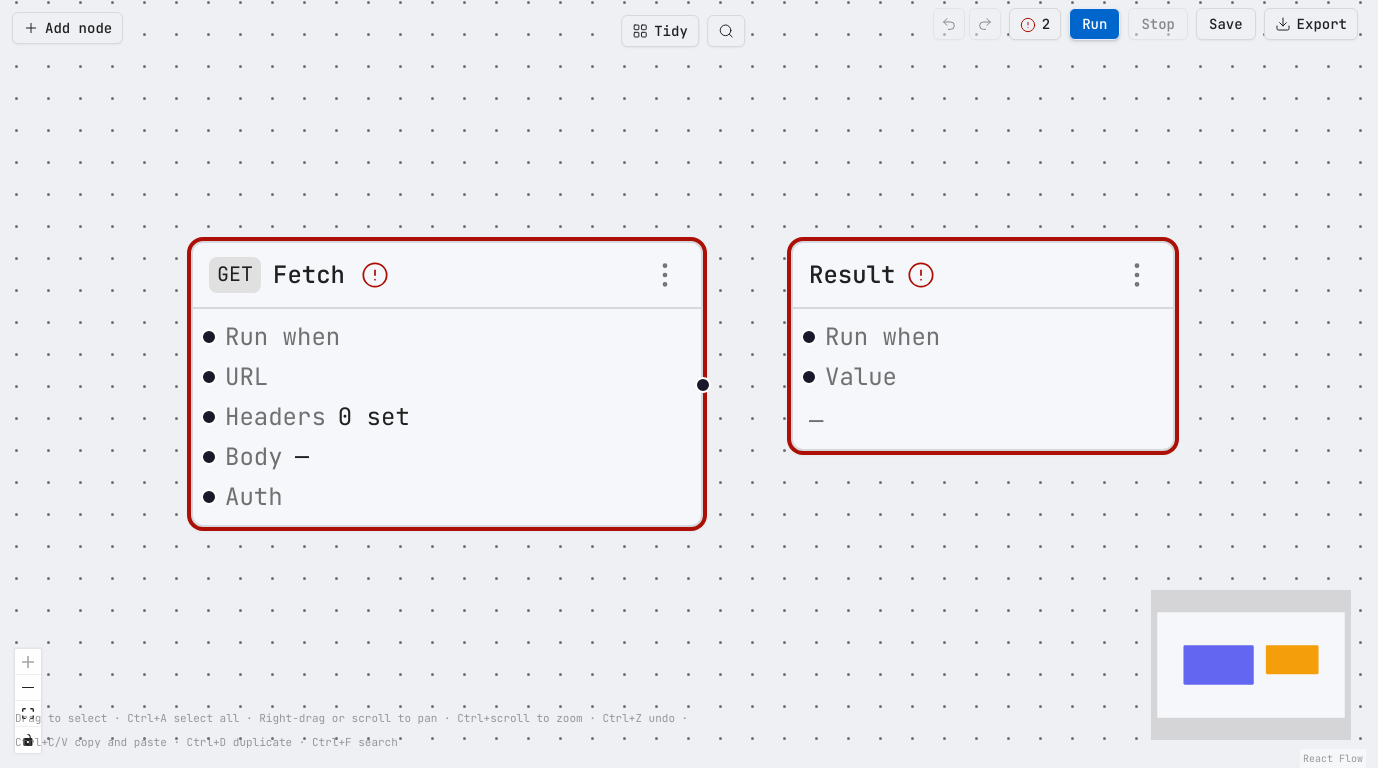
Test: FlowPane run-result wiring › shows the strip, with the failed node label, after Run finishes
The width and height of the screenshot is (1378, 768).
Click the button "Run" at (1095, 24), box [1069,8,1120,40]
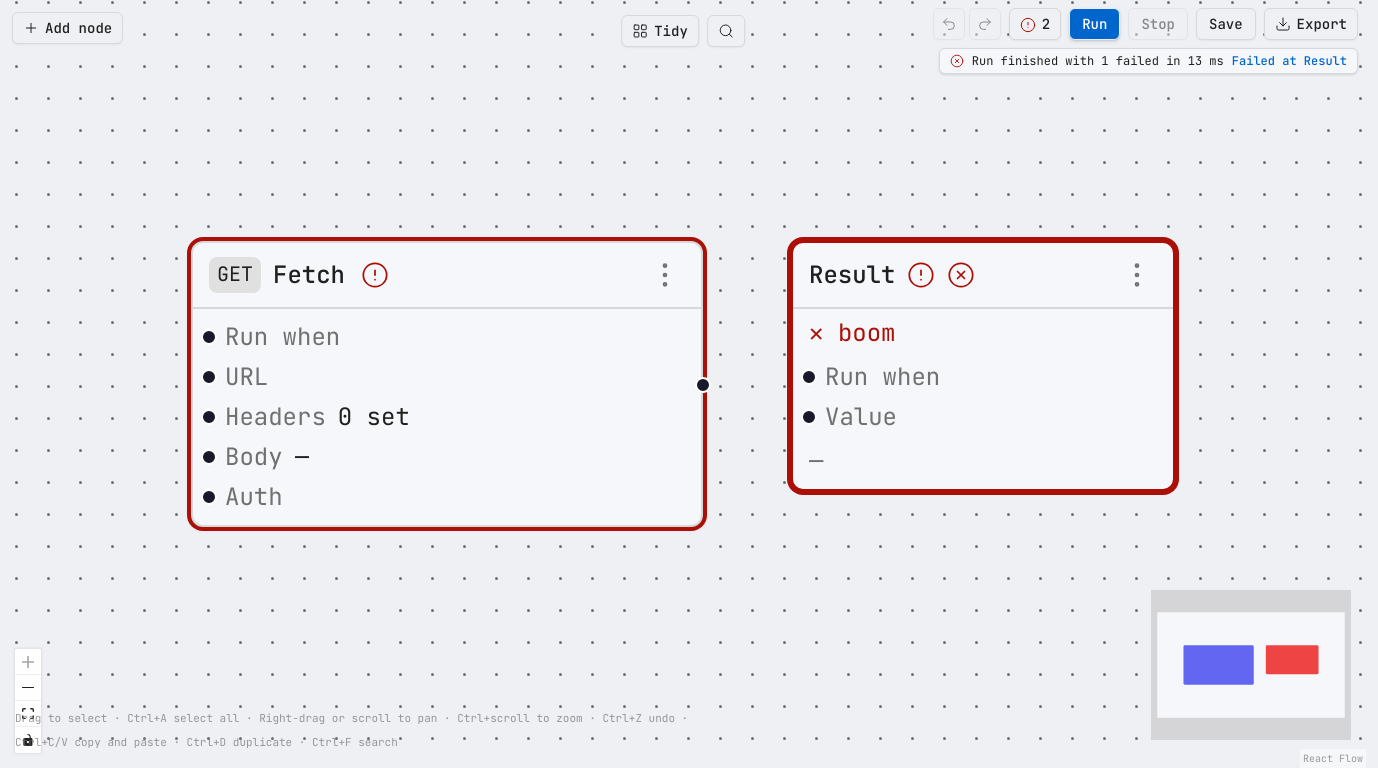
Expected: the button with aria-label "Select failed node Result" is enabled, [1232,53,1347,69]
Expected: the element with test id "run-result-strip" shows "Run finished with 1 failed", [972,53,1224,69]
